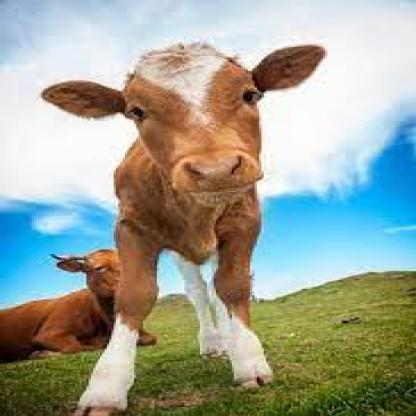cow: (43, 45, 325, 416), (3, 249, 158, 362)
